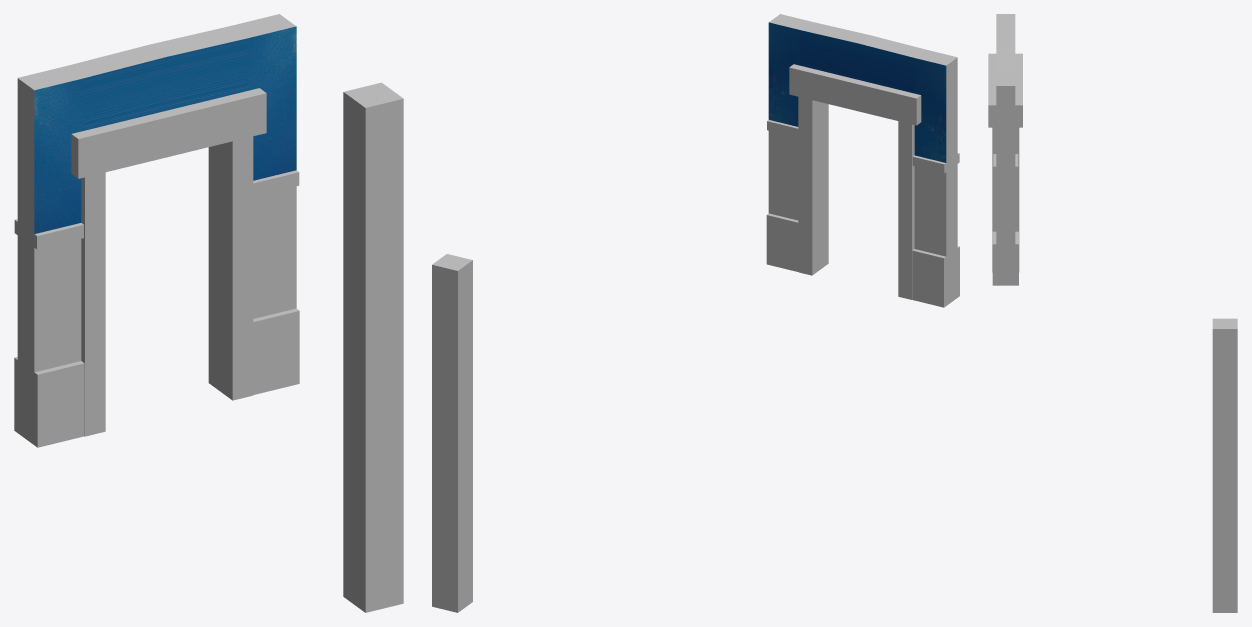
The model's file is DoorH&S.fbx.
3 views of the same model, side by side, from view 1: azimuth 30°, elevation 25°; view 2: azimuth 150°, elevation 25°; view 3: azimuth 270°, elevation 25° (orthographic). The views are drawn at different scales.
Parts seen in each view (by area): view 1: Cube.006, Cube.003, Cube; view 2: Cube.006, Cube.003, Cube; view 3: Cube.003, Cube.006, Cube.
Boxes of the visible parts, bbox=[...] form: Cube.006: bbox=[14, 14, 299, 447]; Cube.003: bbox=[343, 82, 403, 612]; Cube: bbox=[71, 88, 266, 436]; Cube.006: bbox=[766, 14, 959, 307]; Cube.003: bbox=[432, 254, 472, 612]; Cube: bbox=[789, 64, 921, 299]; Cube.003: bbox=[1212, 318, 1237, 612]; Cube.006: bbox=[992, 14, 1018, 285]; Cube: bbox=[988, 53, 1022, 272].
Size of the model in its own units: 2942 by 3965 by 2010.
